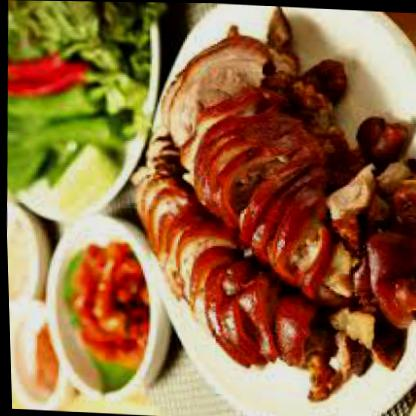pig hocks: (137, 65, 410, 361)
seasoned bellflower root: (54, 240, 147, 366)
